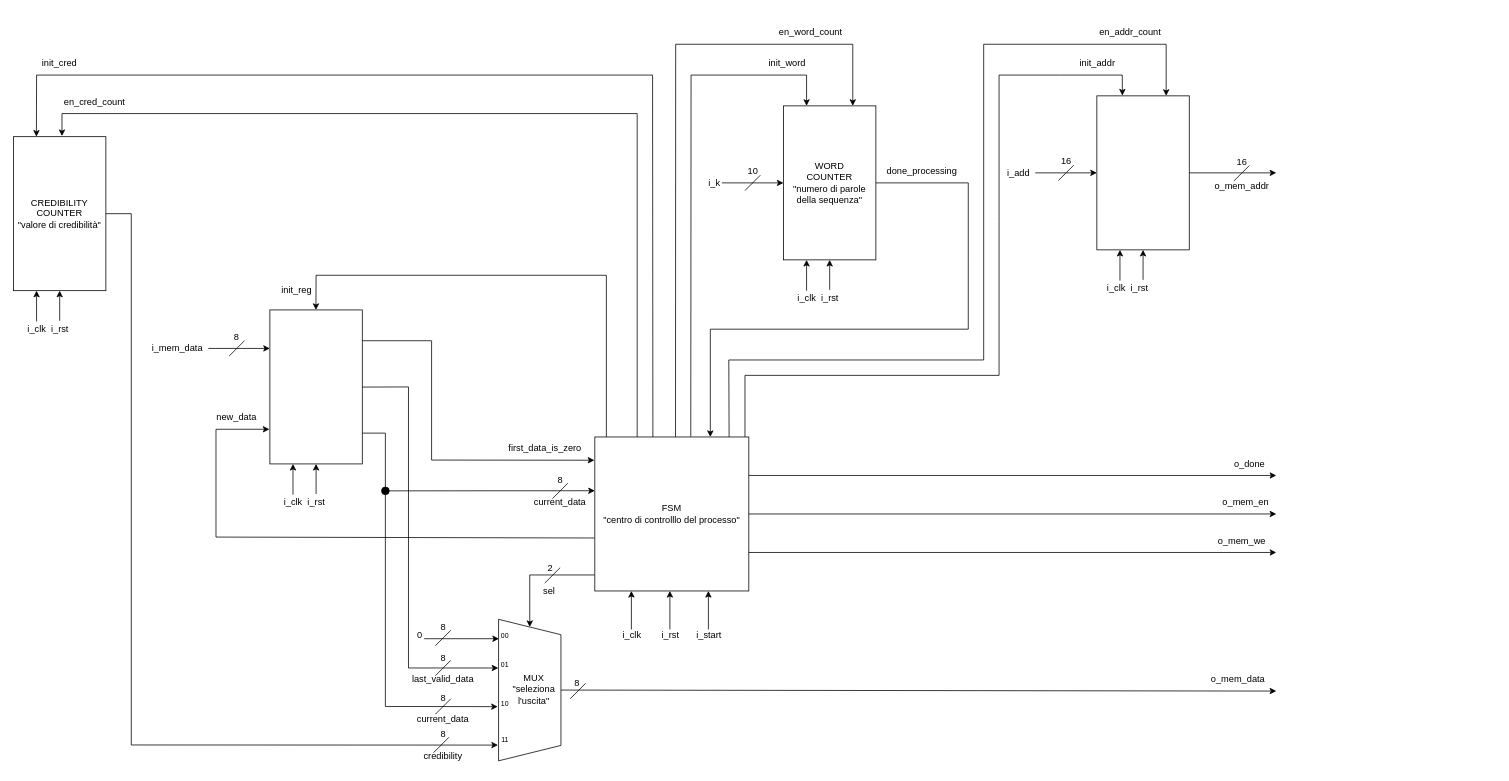
Image size: 1509x781. Some labels were removed from this diagram. The shapes that lost their labels are listed below. From the top down, each one's box as (x1, y1, x2, y2) in pixels, then its label:
(1096, 95, 1189, 250): ADDRESS COUNTER "indirizzo delle parole da leggere e scrivere"
(269, 309, 362, 464): LAST VALID DATA REGISTER "ultimo valore valido dalla memoria"
